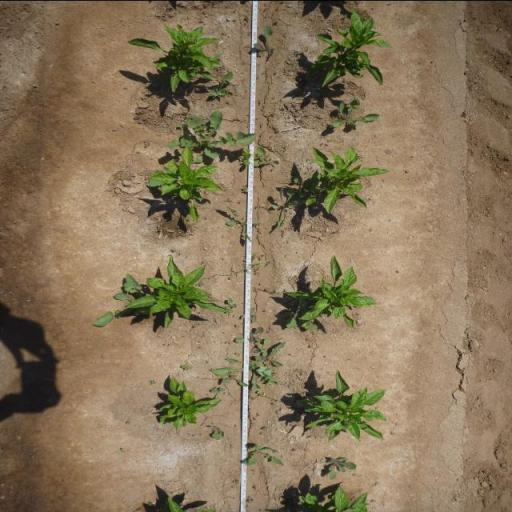plant: (122, 253, 223, 328), (293, 368, 389, 446), (283, 254, 378, 331), (306, 7, 394, 89), (304, 144, 391, 220), (126, 22, 219, 88), (150, 145, 223, 224), (157, 374, 221, 430), (292, 485, 372, 512)
weed: (163, 108, 257, 158), (91, 272, 137, 328), (208, 354, 279, 389), (329, 97, 382, 129), (223, 203, 261, 243), (283, 296, 319, 333), (272, 185, 300, 228), (244, 444, 286, 468), (234, 251, 268, 278), (324, 455, 358, 481), (254, 342, 288, 368), (211, 70, 238, 98), (253, 24, 278, 54), (235, 325, 265, 343), (293, 174, 316, 196), (257, 147, 279, 170), (218, 374, 248, 386), (240, 307, 258, 323), (207, 425, 225, 440), (239, 147, 252, 165), (177, 115, 191, 128), (210, 387, 226, 398), (258, 337, 270, 350), (226, 298, 238, 308), (245, 496, 255, 504), (293, 48, 304, 54), (257, 389, 265, 397), (156, 223, 164, 231), (180, 364, 190, 370), (232, 478, 240, 484), (150, 378, 156, 385), (241, 186, 248, 192), (243, 14, 249, 20), (252, 484, 257, 490), (125, 418, 130, 424), (228, 275, 233, 280), (262, 426, 268, 430), (234, 322, 240, 326), (170, 248, 176, 252), (235, 351, 240, 355), (120, 447, 124, 452)
